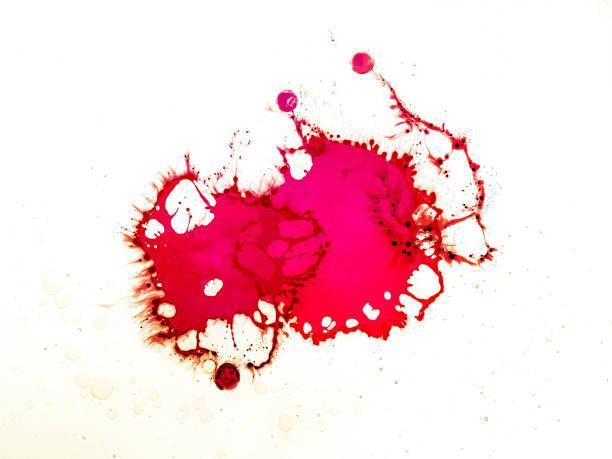Fire: (126, 75, 492, 390), (352, 52, 375, 74)
